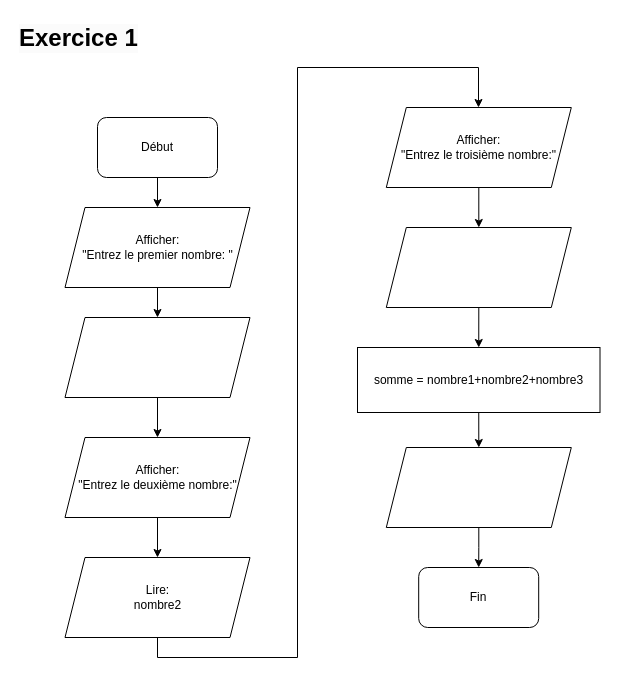
Image size: 617x683. Some labels were removed from this diagram. The centre of each missing label's shape, as x and y in pixels:
Afficher: "La somme est:", somme: the point at 478,487
Lire: nombre1: the point at 157,357
Lire: nombre3: the point at 478,267
